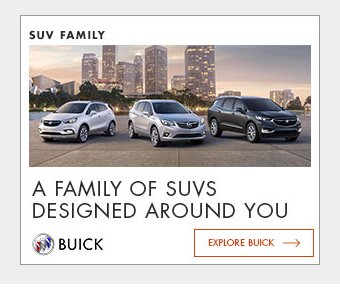fake_button: (188, 225, 319, 265)
